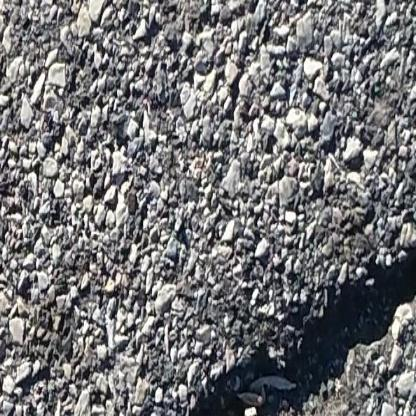Cracks: (141, 223, 416, 416)
